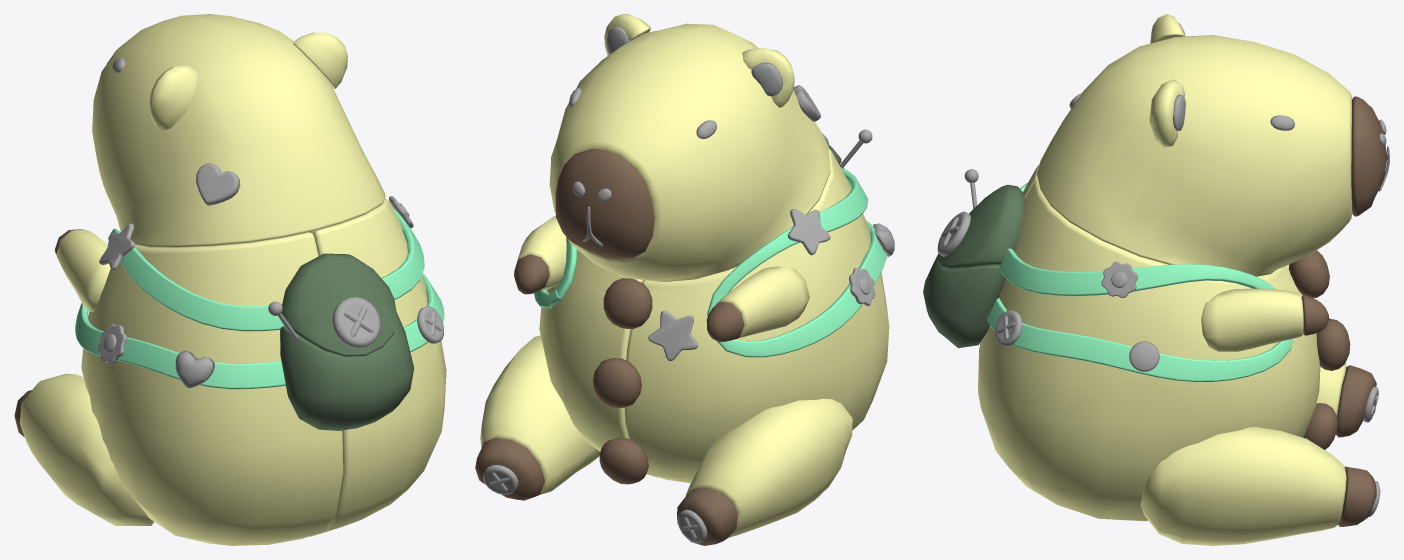
Rendered from Capybara_fix.fbx.
3 renders of one model, left to right at view 1: azimuth 30°, elevation 25°; view 2: azimuth 150°, elevation 25°; view 3: azimuth 270°, elevation 25°, orthographic. The views are drawn at different scales.
Parts seen in each view (by area): view 1: S_Capybara, M_Capybara, D_Capybara_9, D_Capybara_7, D_Capybara_8, D_Capybara_2, D_Capybara_1, D_Capybara_10; view 2: S_Capybara, M_Capybara, D_Capybara_3, D_Capybara_2, D_Capybara_15, D_Capybara_1, D_Capybara_17, D_Capybara_14; view 3: S_Capybara, M_Capybara, D_Capybara_11, D_Capybara_9, D_Capybara_10, D_Capybara_12.
Boxes of the visible parts, x1,y1,x2,y2 form: S_Capybara: (55,14,446,545); M_Capybara: (14,50,414,525); D_Capybara_9: (332,297,380,347); D_Capybara_7: (196,163,240,205); D_Capybara_8: (175,350,214,388); D_Capybara_2: (99,223,134,269); D_Capybara_1: (98,323,126,363); D_Capybara_10: (417,306,443,343); S_Capybara: (514,14,889,483); M_Capybara: (475,143,852,545); D_Capybara_3: (648,310,697,361); D_Capybara_2: (787,209,830,255); D_Capybara_15: (483,465,518,494); D_Capybara_1: (849,268,875,305); D_Capybara_17: (751,62,782,96); D_Capybara_14: (677,509,707,543); S_Capybara: (978,14,1352,521); M_Capybara: (923,96,1387,545); D_Capybara_11: (1101,261,1137,297); D_Capybara_9: (937,211,970,256); D_Capybara_10: (994,310,1022,346); D_Capybara_12: (1129,341,1159,371).
Bounding box in the file's own units: 357 × 481 × 454.
